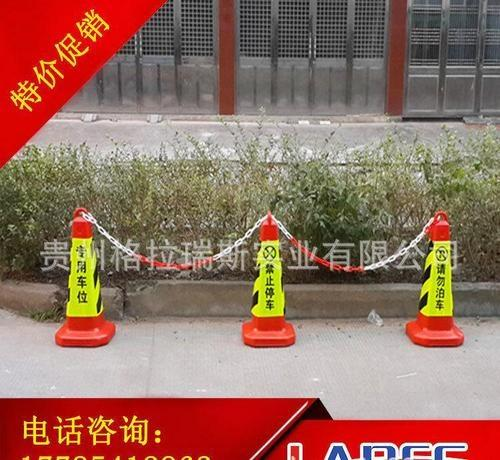cone_barrel: (51, 205, 115, 349), (402, 209, 467, 349), (237, 211, 295, 347)
